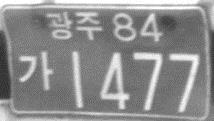1: (69, 49, 87, 110)
4: (97, 49, 130, 110), (140, 10, 164, 43)
7: (166, 51, 201, 116), (131, 50, 164, 112)
8: (111, 11, 138, 44)
가: (17, 50, 54, 92)
광주_O: (45, 9, 103, 43)
